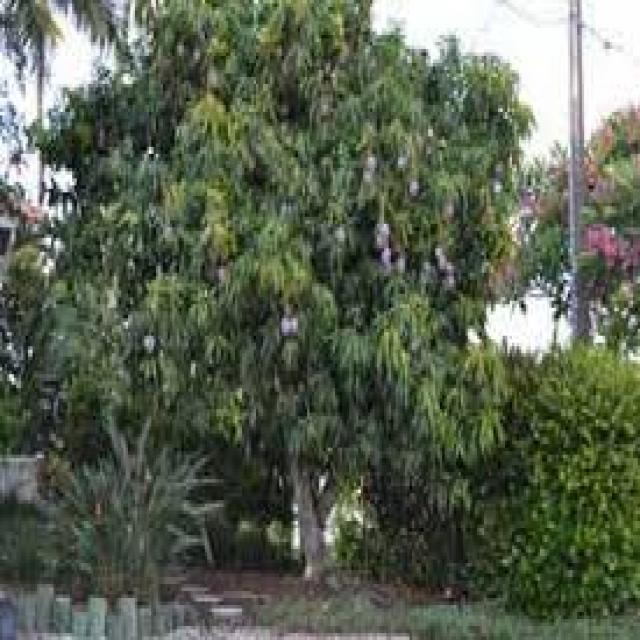tree: (195, 9, 463, 616)
